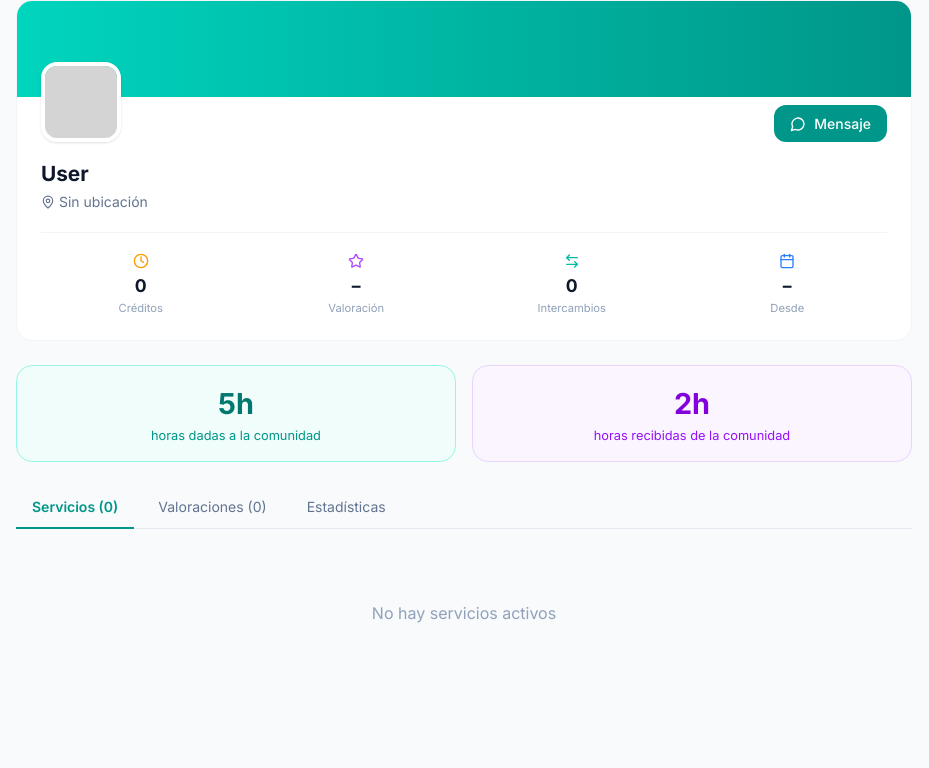
Test case: tabs show services/reviews/stats fallbacks and content
Expected: the text "No hay servicios activos" is shown, [372, 603, 556, 623]
Note: Switch to reviews tab
Click the button "Valoraciones (0)" at (212, 507), box [142, 486, 283, 529]
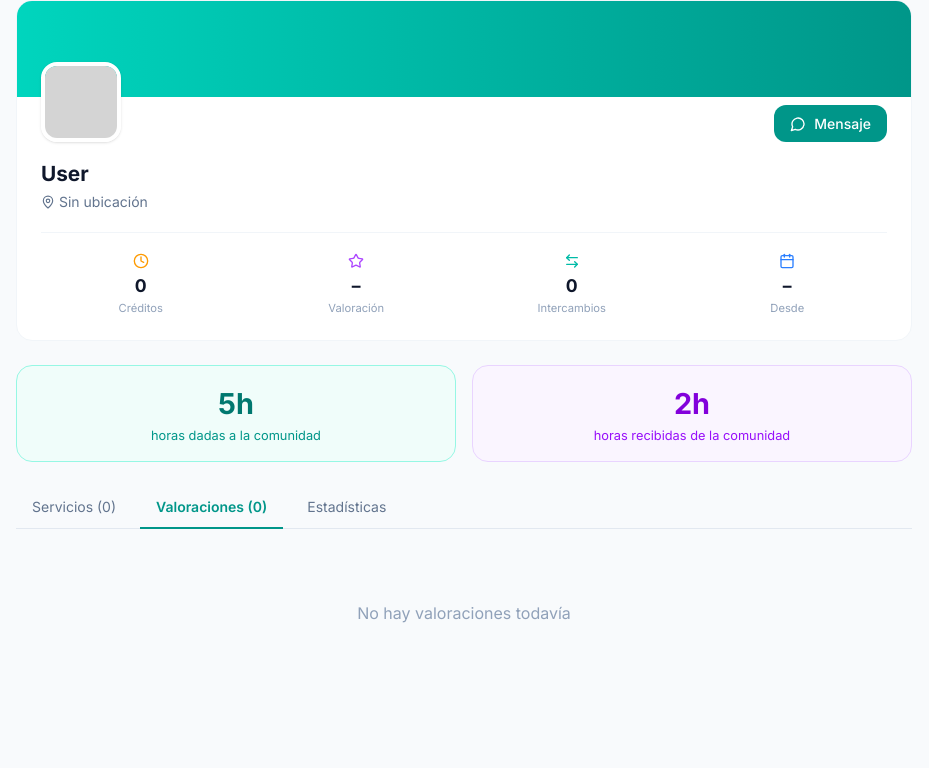
Expected: the text "No hay valoraciones todavía" is shown, [357, 603, 571, 623]
Note: Switch to stats tab
Click the button "Estadísticas" at (347, 507), box [291, 486, 402, 529]
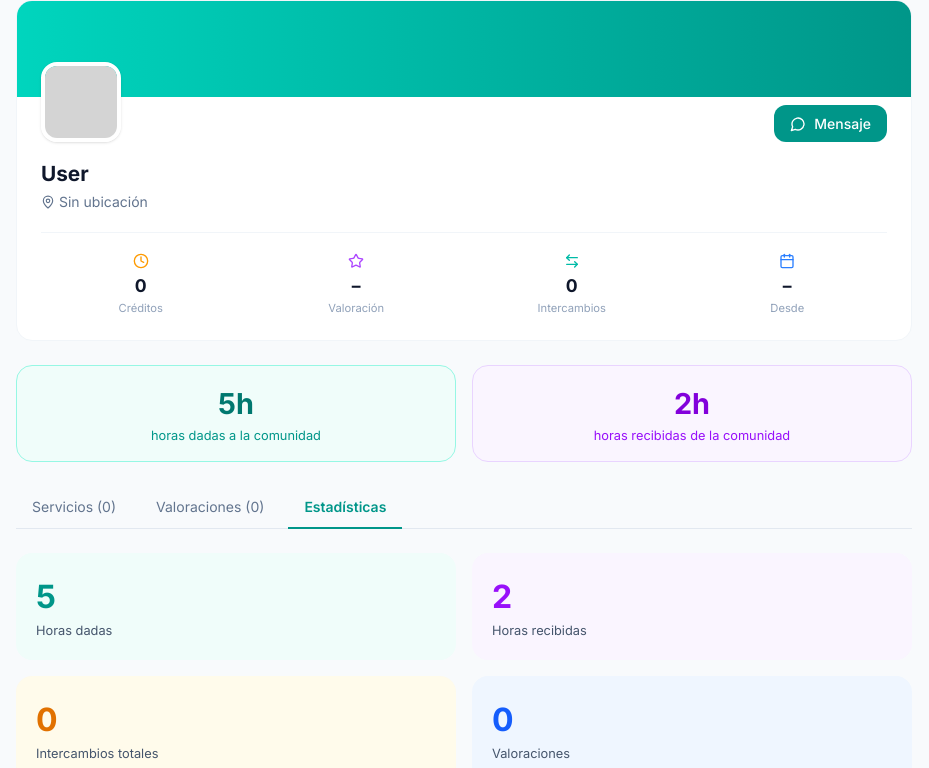
Expected: the text "Horas dadas" is shown, [36, 623, 112, 638]
